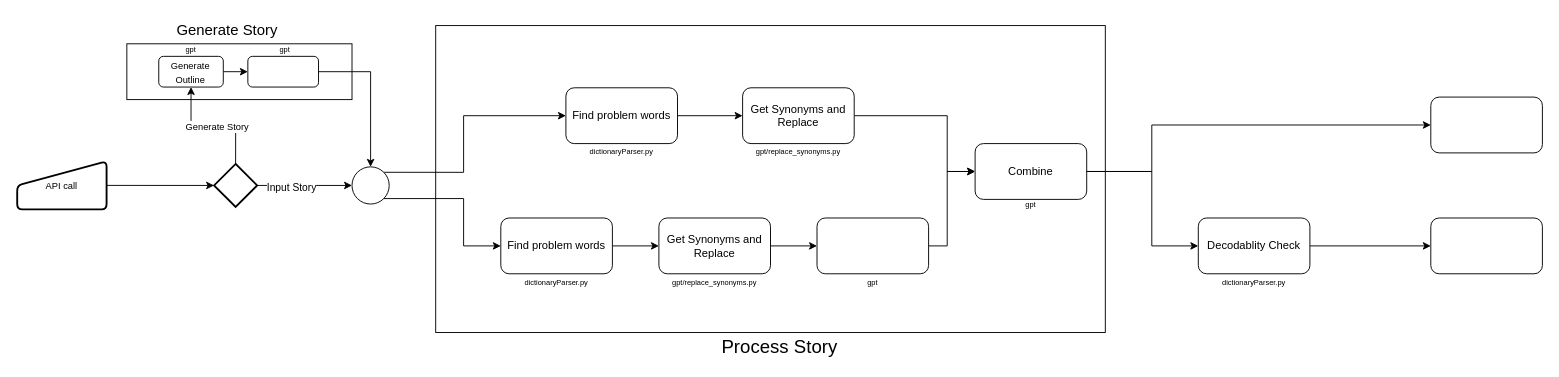
This 1559x377 diagram has some shape labels left out. The box of each missing label's shape, as (x1, y1, x2, y2) in pixels:
Generate Chapters: (247, 55, 319, 87)
Output Decodability: (1430, 217, 1542, 274)
Output Story: (1430, 96, 1542, 153)
Spelling and grammar check: (816, 217, 929, 274)
